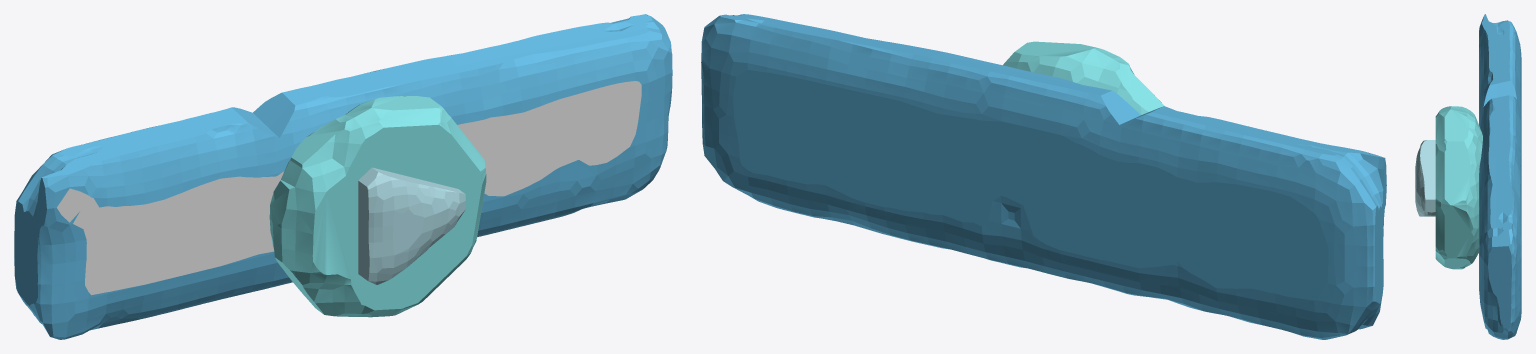
File: MENU_play.fbx
3 renders of one model, left to right at view 1: azimuth 30°, elevation 25°; view 2: azimuth 150°, elevation 25°; view 3: azimuth 270°, elevation 25°, orthographic. The views are drawn at different scales.
Visible parts, largest first — view 1: play; view 2: play; view 3: play.
Part boxes in pixels (x1,y1,x2,y2): play: [14, 14, 672, 339]; play: [701, 14, 1386, 339]; play: [1415, 14, 1521, 339].
Bounding box in the file's own units: 121 × 37.58 × 24.35.
